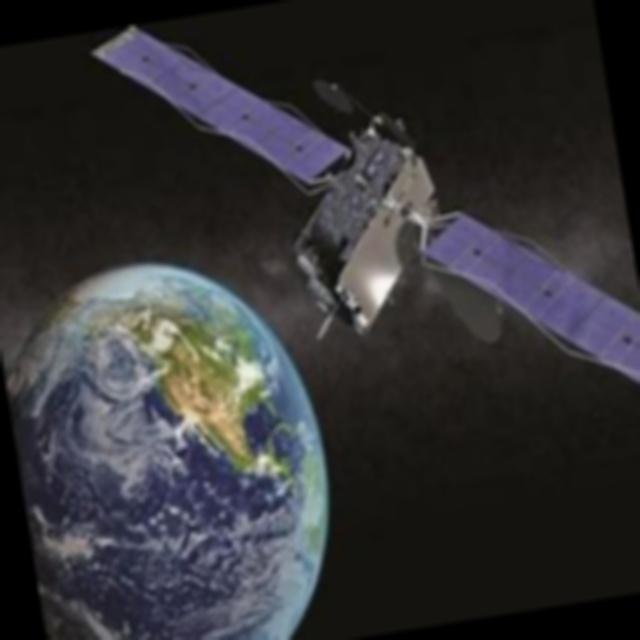satellite: (82, 0, 640, 467)
